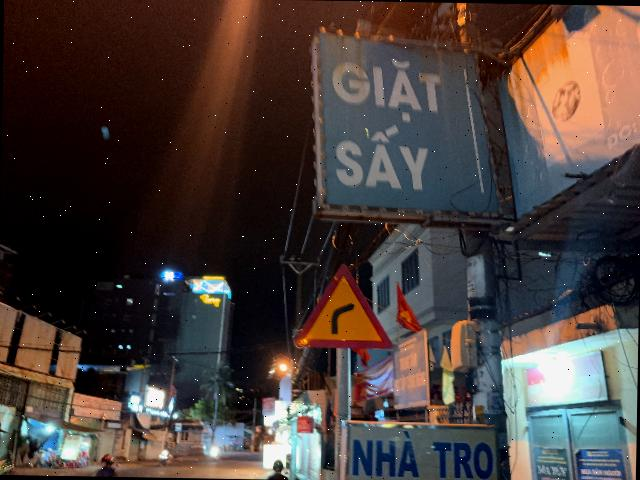cho-ngoat-nguy-hiem-ben-phai: (294, 262, 394, 348)
